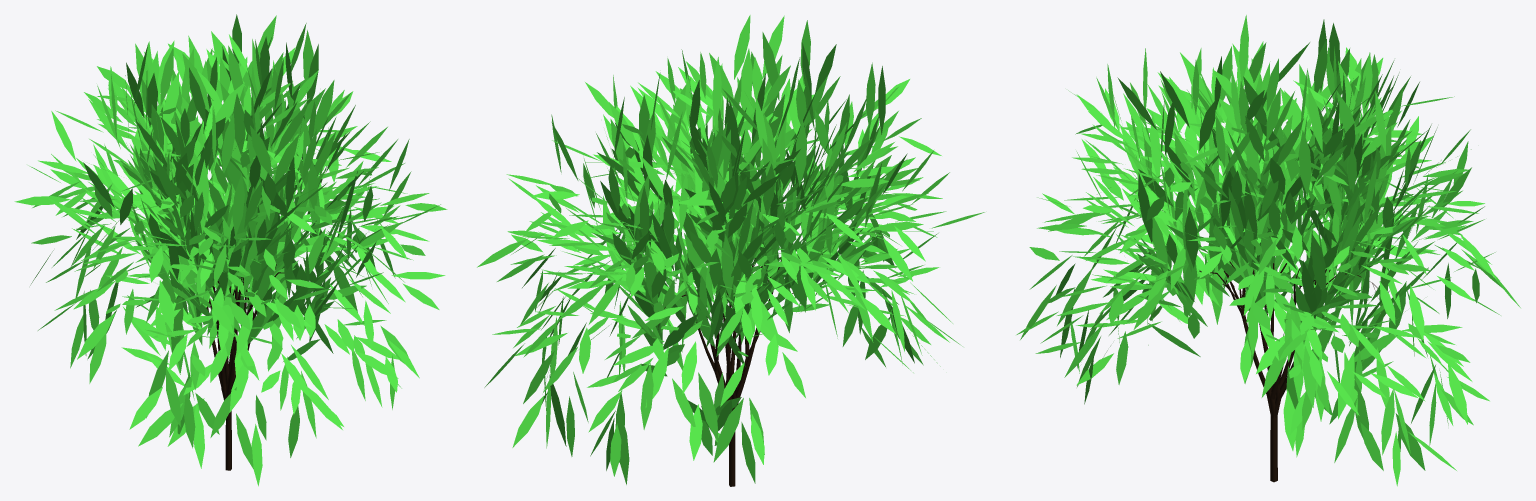
Rendered from shrub2.glb.
The picture shows the model from 3 angles, left to right: view 1: azimuth 30°, elevation 25°; view 2: azimuth 150°, elevation 25°; view 3: azimuth 270°, elevation 25°; orthographic projection. The views are drawn at different scales.
Parts seen in each view (by area): view 1: leaves; view 2: leaves; view 3: leaves.
Boxes of the visible parts, x1,y1,x2,y2 form: leaves: (14, 14, 447, 486); leaves: (477, 15, 984, 486); leaves: (1016, 15, 1520, 486).
Bounding box in the file's own units: 6.94 × 7.12 × 7.44.
